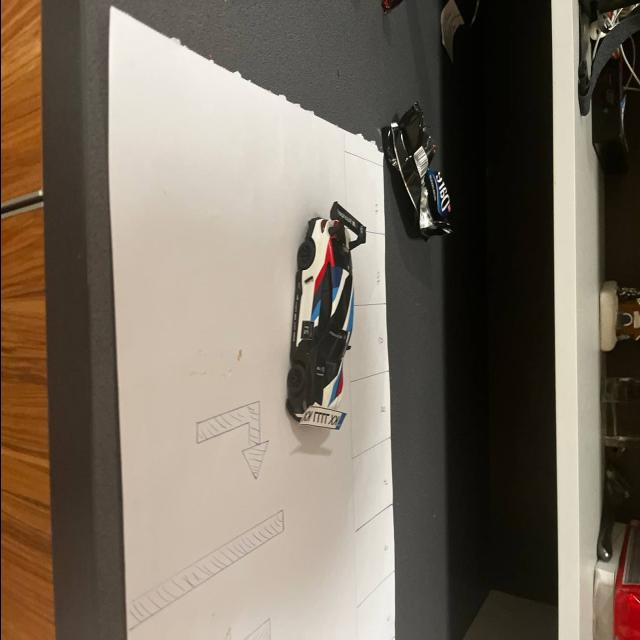cars: (264, 164, 373, 455)
